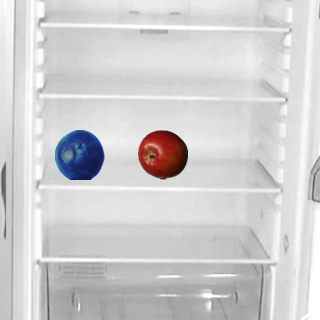Apple Braeburn: (137, 129, 187, 179)
Huckleberry: (54, 129, 104, 179)
